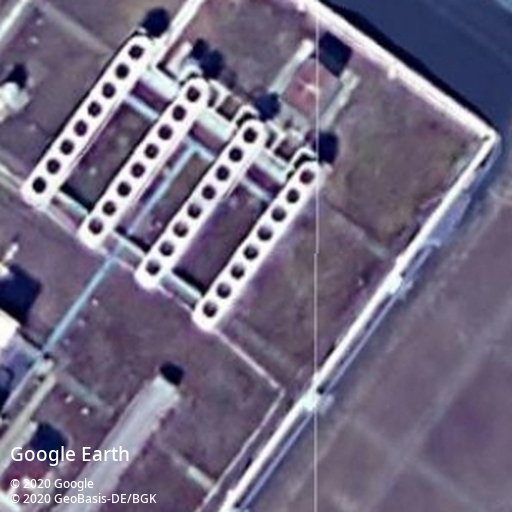Chiller: (189, 157, 332, 336), (130, 113, 273, 292), (73, 71, 216, 250), (17, 30, 160, 209)
